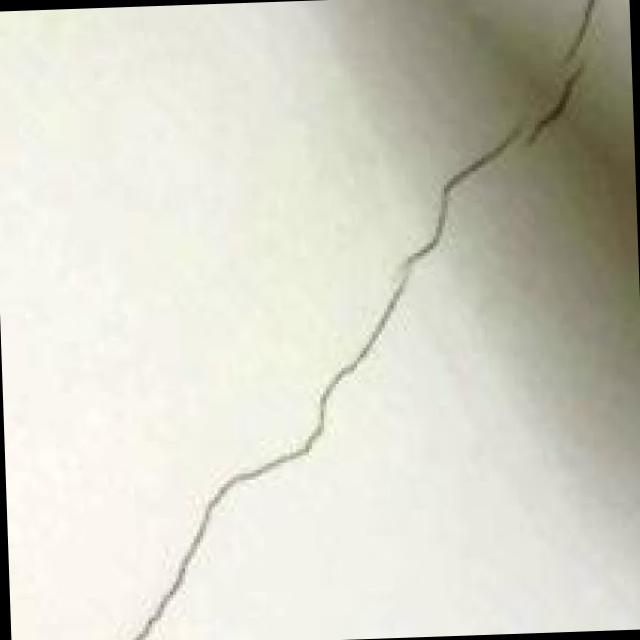crack: (98, 0, 616, 640)
